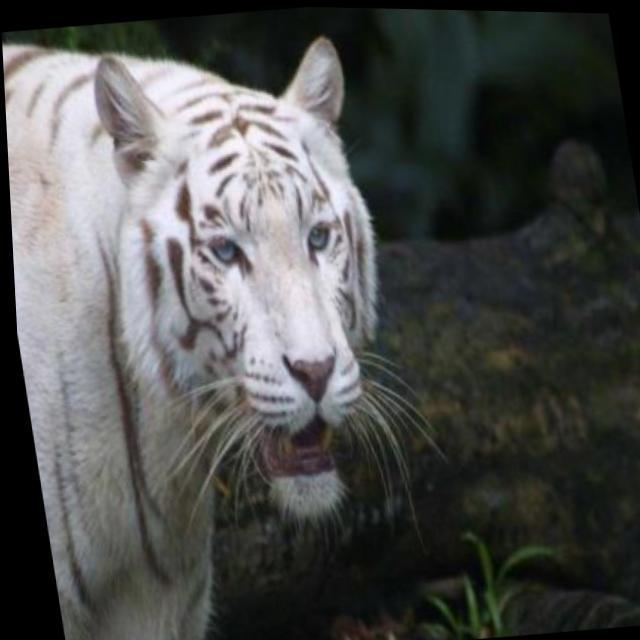tiger: (1, 34, 445, 639)
